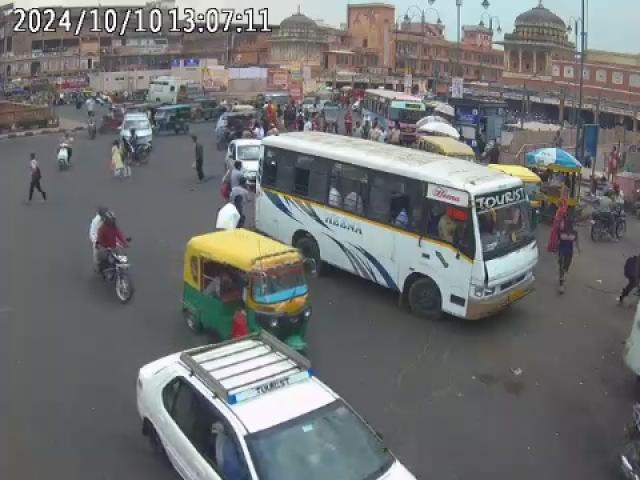auto: (179, 228, 311, 364), (151, 104, 191, 136)
bus: (258, 132, 538, 322), (363, 88, 426, 138)
car: (136, 335, 417, 480), (227, 138, 266, 192), (119, 114, 152, 139)
helmet: (102, 212, 116, 228), (96, 205, 112, 217)
motorbike-rider: (90, 208, 136, 305), (588, 191, 628, 242)
person: (552, 207, 580, 290), (214, 198, 241, 232), (112, 138, 134, 178), (28, 154, 44, 202), (192, 136, 205, 181), (395, 208, 412, 232)
scooty-rider: (58, 138, 74, 170)
